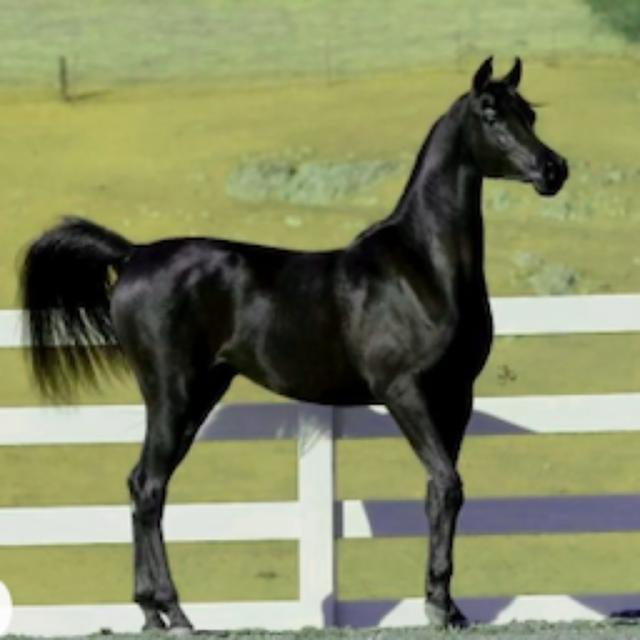Horse: (10, 47, 578, 635)
